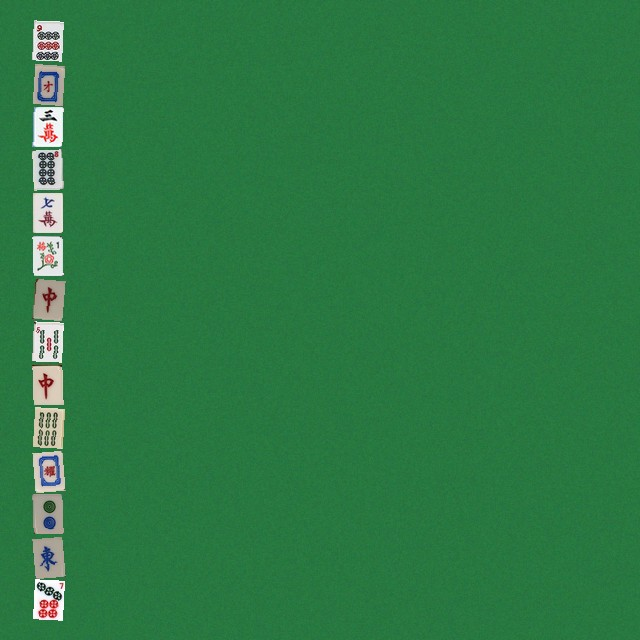tile: (32, 20, 62, 60), (32, 63, 62, 103), (32, 106, 62, 146), (32, 149, 62, 189), (32, 192, 62, 232), (32, 235, 62, 275), (32, 278, 62, 318), (32, 321, 62, 361), (32, 364, 62, 404), (32, 407, 62, 447), (32, 450, 62, 490), (32, 493, 62, 533), (32, 536, 62, 576), (32, 579, 62, 619)
